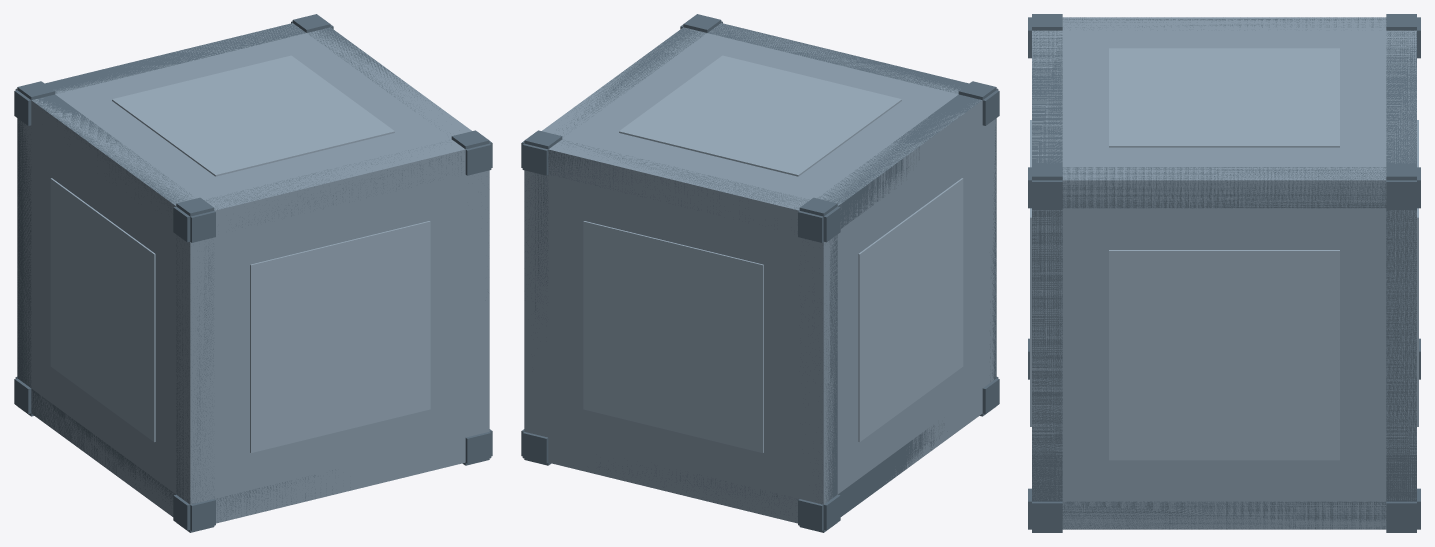
The model's file is crate.glb.
3 renders of one model, left to right at view 1: azimuth 30°, elevation 25°; view 2: azimuth 150°, elevation 25°; view 3: azimuth 270°, elevation 25°, orthographic. The views are drawn at different scales.
Visible parts, largest first — view 1: crate; view 2: crate; view 3: crate.
Boxes of the visible parts, x1=… form: crate: x1=14, y1=14, x2=492, y2=532; crate: x1=521, y1=14, x2=999, y2=532; crate: x1=1028, y1=14, x2=1420, y2=532.
Size of the model in its own units: 1.02 by 1.02 by 1.02.
